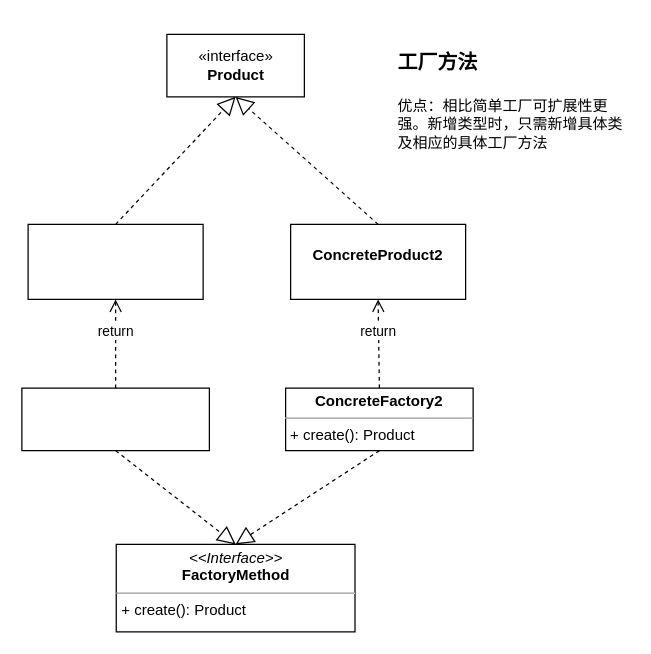
Image size: 651x654. Some labels were removed from this diagram. The shapes that lost their labels are listed below. From the top down, each one's box as (x1, y1, x2, y2) in pixels, then its label:
(27, 223, 203, 299): ConcreteProduct1
(21, 387, 209, 451): ConcreteFactory1 + create(): Product
